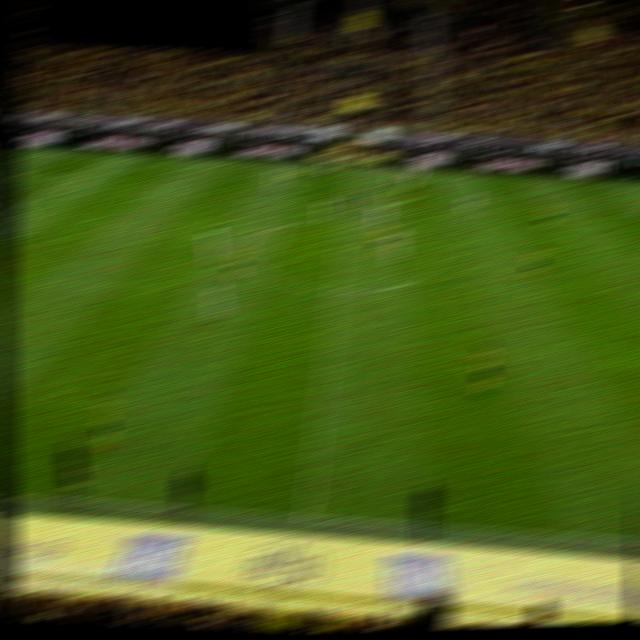bigarea_top_inner: (53, 173, 80, 185), (624, 204, 640, 215)
halfcircle_bottom: (325, 284, 347, 296)
halfcircle_top: (333, 214, 355, 227)
midline_bottom_intersection: (295, 509, 319, 524)
midline_top_intersection: (338, 161, 360, 172)
top_arc_area_intersection: (6, 201, 27, 212)
